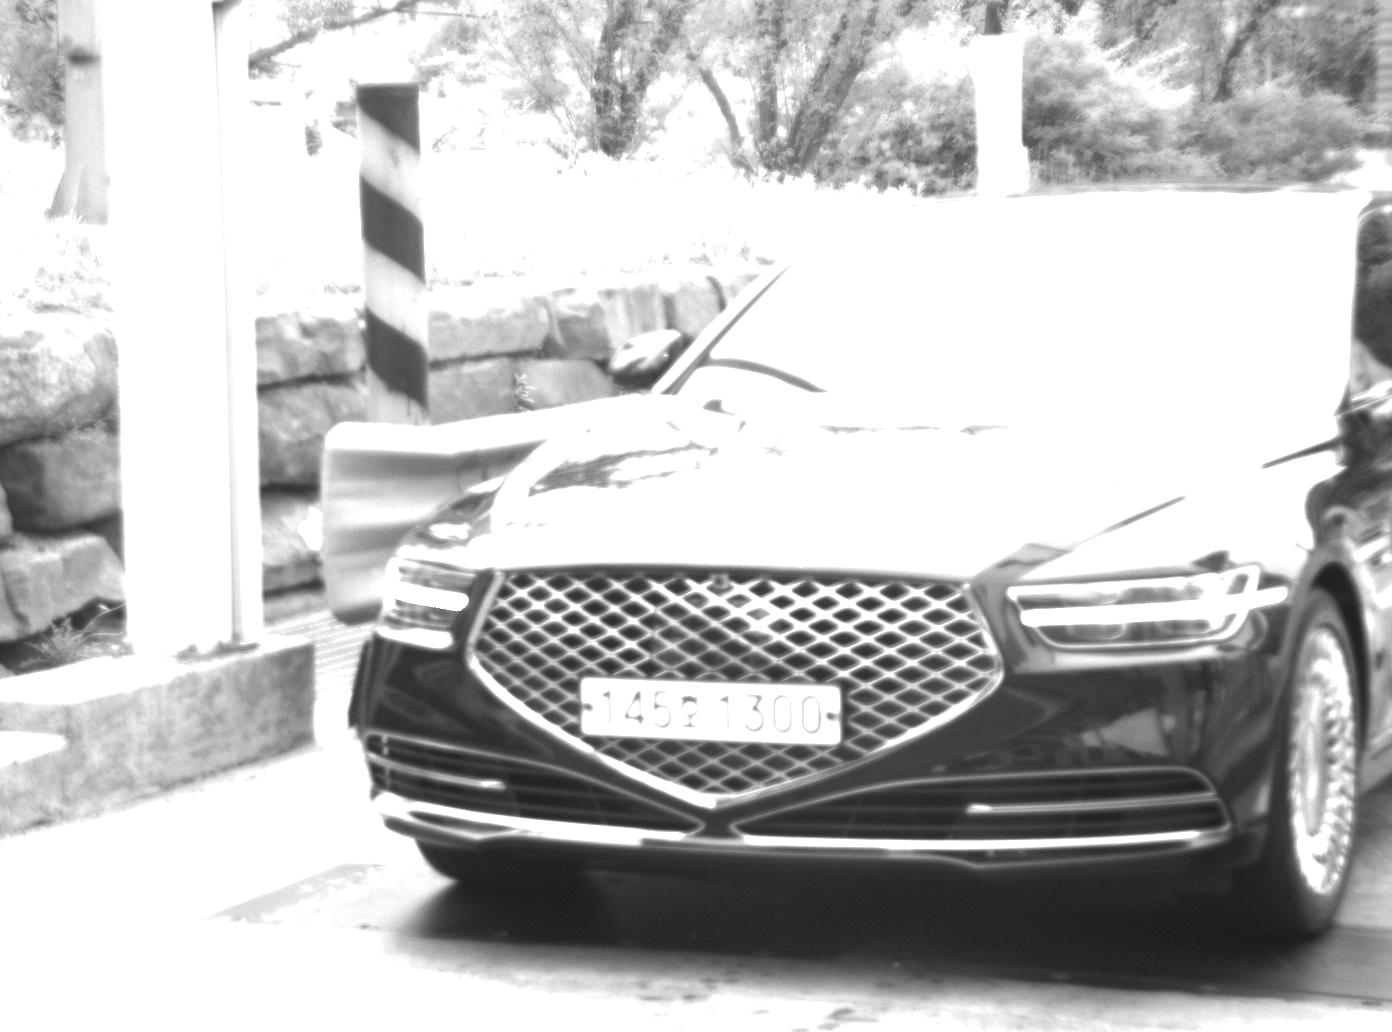car: (351, 187, 1392, 943)
plate: (579, 675, 842, 746)
